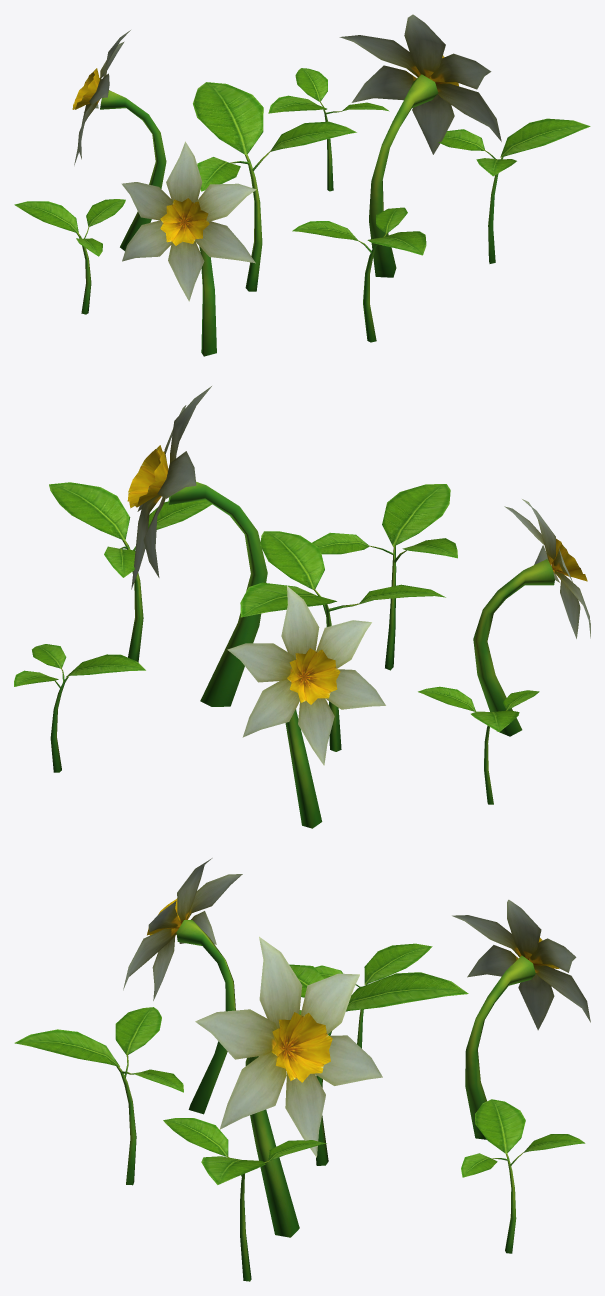
Rendered from flower_08.fbx.
3 views of the same model, one above another, from view 1: azimuth 30°, elevation 25°; view 2: azimuth 150°, elevation 25°; view 3: azimuth 270°, elevation 25° (orthographic). The views are drawn at different scales.
Visible parts, largest first — view 1: flower_08; view 2: flower_08; view 3: flower_08.
Boxes of the visible parts, bbox=[...] form: flower_08: bbox=[14, 14, 590, 356]; flower_08: bbox=[14, 386, 590, 828]; flower_08: bbox=[14, 858, 590, 1281].
Bounding box in the file's own units: 4.47 × 2.34 × 4.
